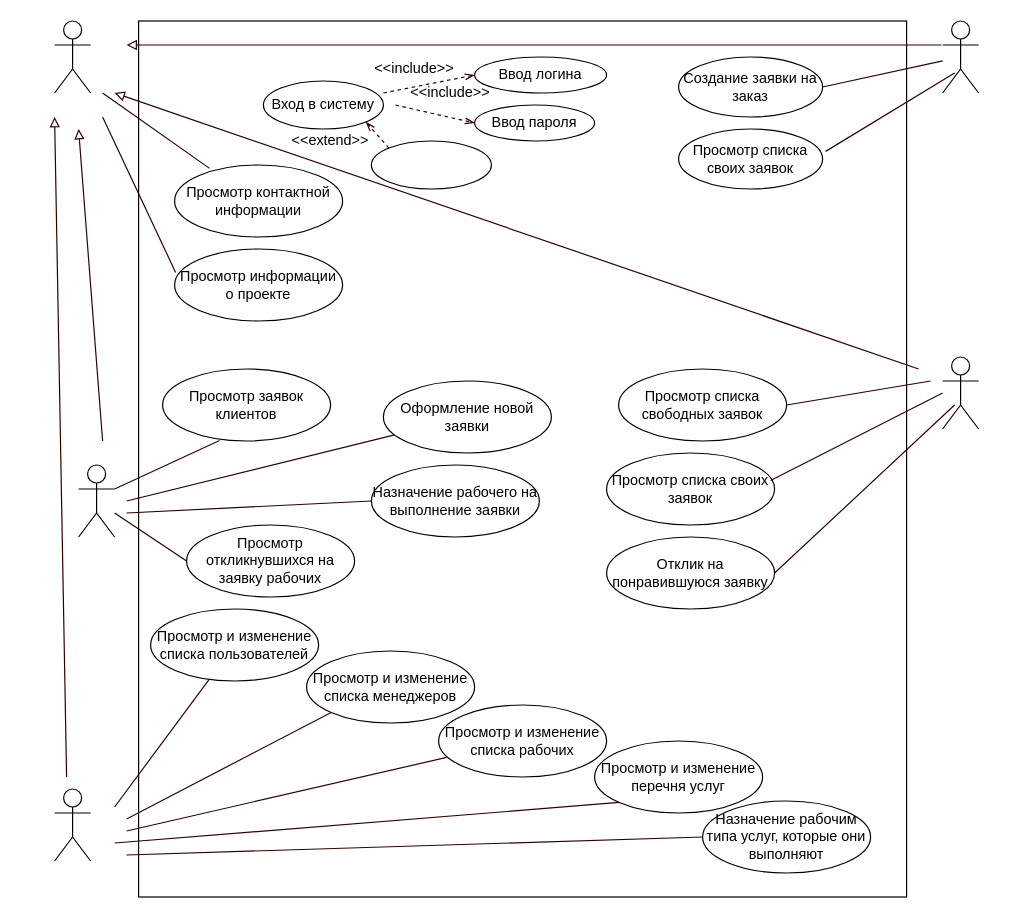
This 1009x918 diagram has some shape labels left out. Here are the shapes that lost their labels. From the top down, the centre of each, then its label:
At (x=72, y=56): "Гость".
At (x=960, y=56): "Клиент".
At (x=430, y=164): "Регистрация в системе".
At (x=960, y=392): "Рабочий".
At (x=96, y=500): "Менеджер".
At (x=72, y=824): "Администратор".
